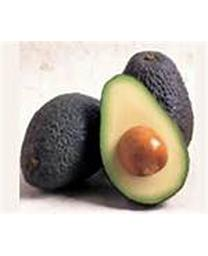avocado: (98, 73, 191, 205), (20, 92, 124, 194), (122, 51, 194, 162)
